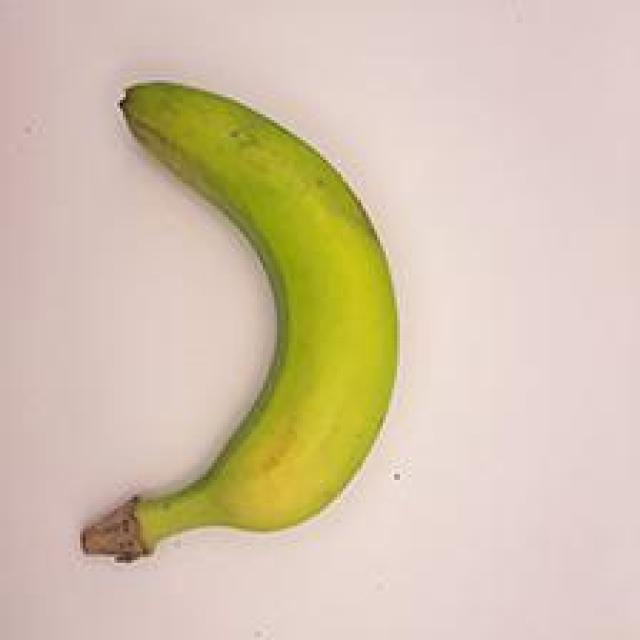Unripe: (60, 57, 424, 609)
